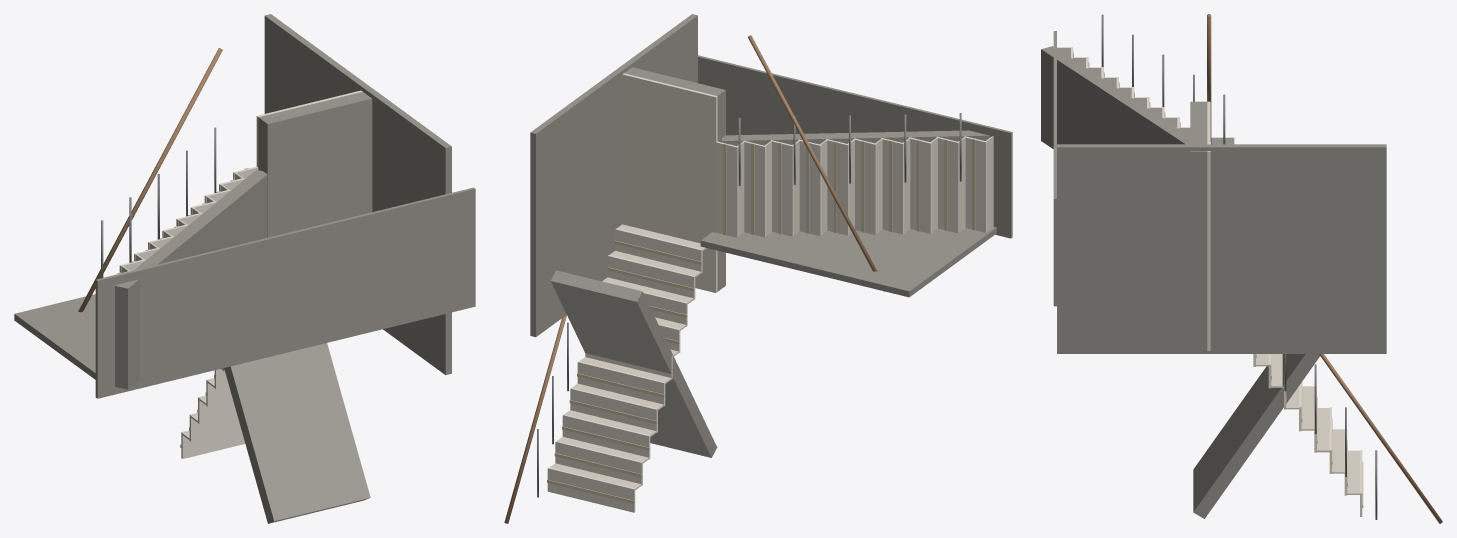
File: model-c-staircase.glb
3 views of the same model, side by side, from view 1: azimuth 30°, elevation 25°; view 2: azimuth 150°, elevation 25°; view 3: azimuth 270°, elevation 25° (orthographic). The views are drawn at different scales.
Parts seen in each view (by area): view 1: floor_base, stringer_f2_concrete, wall_corner, landing_slab_concrete, stringer_f1_concrete, wall_f1_stringer, handrail_f1_left, tread_f2_9__tread, tread_f2_8__tread, tread_f2_7__tread; view 2: wall_corner, landing_top__landing, floor_base, wall_f1_stringer, stringer_f2_concrete, stringer_f1_concrete, tread_f2_9__tread, tread_f1_9__tread, tread_f1_4__tread, tread_f1_3__tread, tread_f1_0__tread, tread_f1_1__tread (+18 smaller); view 3: wall_corner, stringer_f1_concrete, stringer_f2_concrete, landing_slab_concrete, floor_base, handrail_f2_left, landing_top__landing, riser_f2_6__riser, riser_f2_8__riser, riser_f2_7__riser, riser_f2_9__riser, handrail_f1_left.
Part boxes in pixels (x1,y1,x2,y2): floor_base: (95, 187, 475, 398); stringer_f2_concrete: (224, 343, 370, 523); wall_corner: (264, 14, 451, 375); landing_slab_concrete: (258, 92, 372, 237); stringer_f1_concrete: (115, 170, 267, 389); wall_f1_stringer: (14, 294, 95, 379); handrail_f1_left: (78, 48, 222, 312); tread_f2_9__tread: (181, 429, 245, 458); tread_f2_8__tread: (189, 413, 241, 441); tread_f2_7__tread: (198, 395, 236, 424); wall_corner: (530, 14, 697, 337); landing_top__landing: (622, 73, 717, 292); floor_base: (698, 55, 1012, 238); wall_f1_stringer: (700, 227, 996, 297); stringer_f2_concrete: (551, 270, 717, 457); stringer_f1_concrete: (721, 130, 990, 145); tread_f2_9__tread: (547, 467, 635, 512); tread_f1_9__tread: (716, 141, 738, 237); tread_f1_4__tread: (853, 138, 876, 234); tread_f1_3__tread: (881, 138, 904, 234); tread_f1_0__tread: (964, 136, 987, 232); tread_f1_1__tread: (936, 137, 959, 233); wall_corner: (1057, 144, 1386, 353); stringer_f1_concrete: (1041, 46, 1190, 148); stringer_f2_concrete: (1193, 354, 1319, 518); landing_slab_concrete: (1190, 101, 1207, 350); floor_base: (1053, 31, 1056, 306); handrail_f2_left: (1319, 354, 1442, 523); landing_top__landing: (1207, 101, 1210, 350); riser_f2_6__riser: (1301, 386, 1314, 430); riser_f2_8__riser: (1331, 429, 1344, 473); riser_f2_7__riser: (1317, 408, 1330, 452); riser_f2_9__riser: (1346, 450, 1359, 494); handrail_f1_left: (1207, 14, 1211, 143).
Size of the model in its own units: 4.7 by 5.81 by 4.75.
